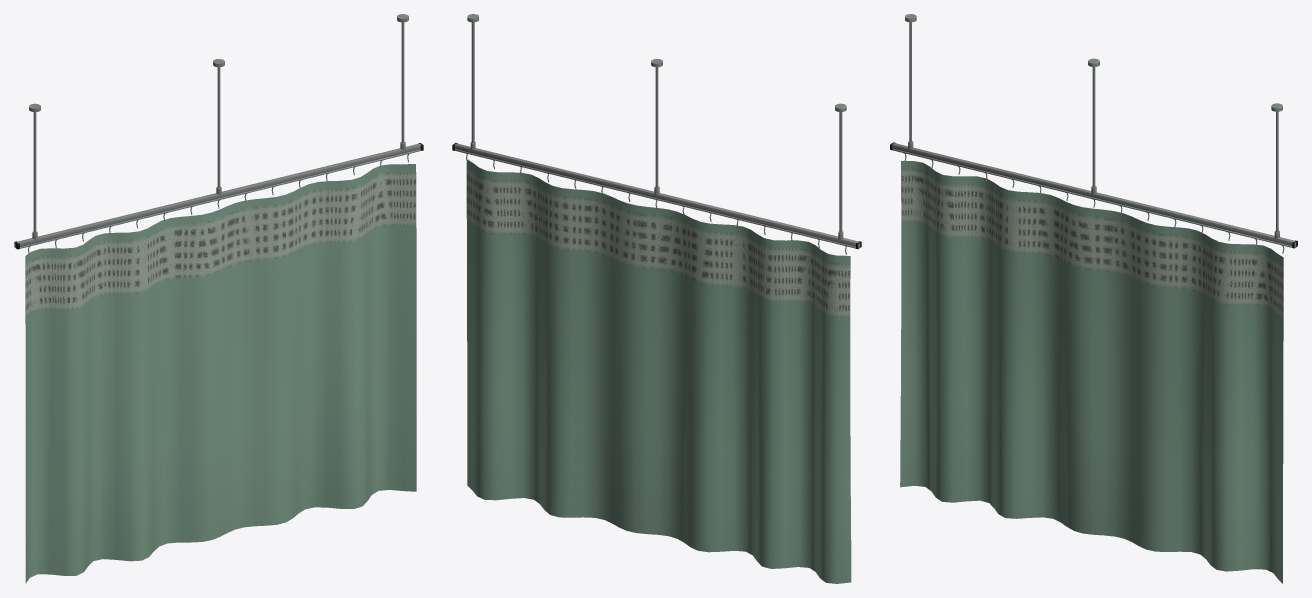
The model's file is CTCC_ENV_CurtainAssembly.fbx.
3 views of the same model, side by side, from view 1: azimuth 30°, elevation 25°; view 2: azimuth 150°, elevation 25°; view 3: azimuth 330°, elevation 25° (orthographic).
Visible parts, largest first — view 1: CurtainCloth, CurtainTrack; view 2: CurtainCloth, CurtainTrack; view 3: CurtainCloth, CurtainTrack.
Boxes of the visible parts, box(x1,y1,x2,y2) form: CurtainCloth: box(25, 164, 416, 583); CurtainTrack: box(14, 14, 423, 254); CurtainCloth: box(466, 159, 851, 583); CurtainTrack: box(452, 14, 861, 254); CurtainCloth: box(900, 161, 1283, 583); CurtainTrack: box(890, 14, 1297, 253).
Bounding box in the file's own units: 2.5 × 2.79 × 0.133.
